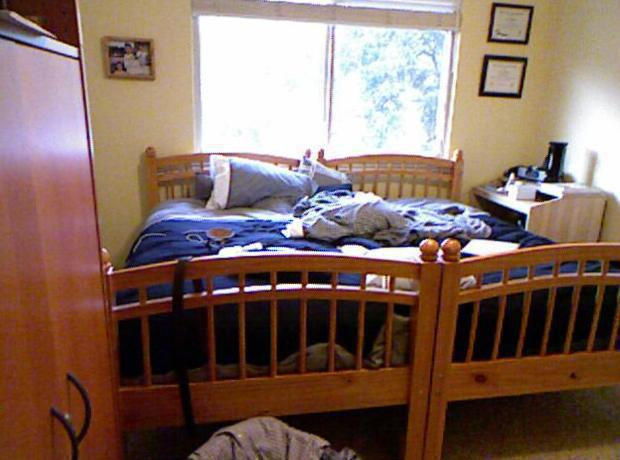Armario: (0, 0, 117, 459)
